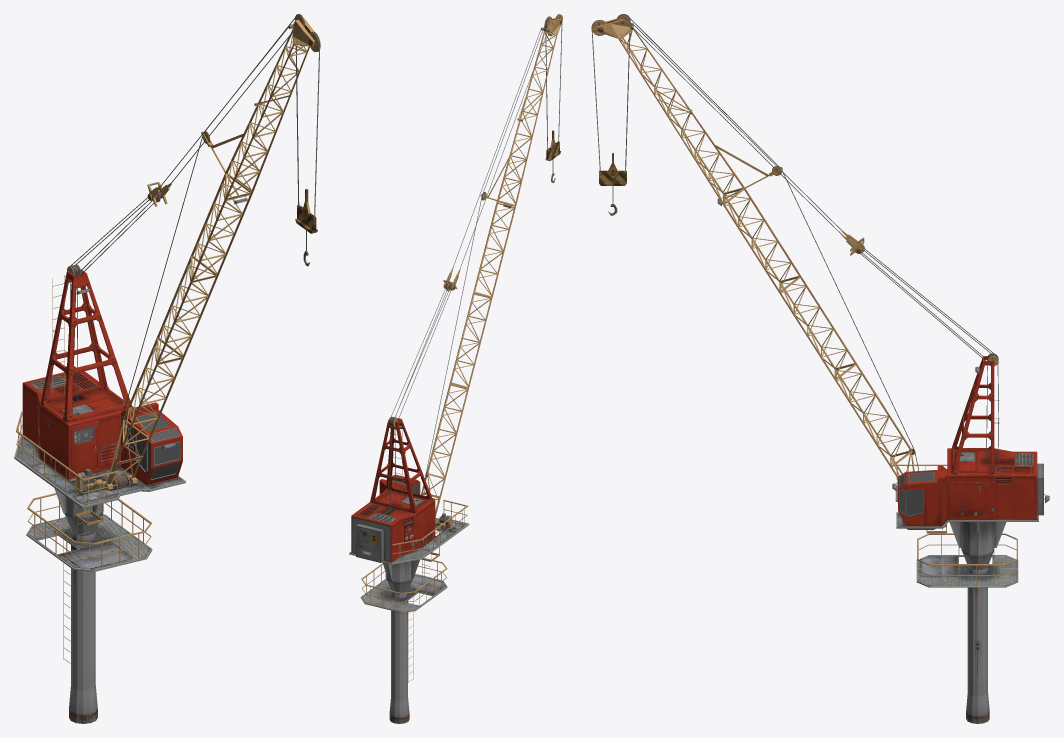
The model's file is LatticeCrane.fbx.
3 views of the same model, side by side, from view 1: azimuth 30°, elevation 25°; view 2: azimuth 150°, elevation 25°; view 3: azimuth 270°, elevation 25° (orthographic). The views are drawn at different scales.
Visible parts, largest first — view 1: Cabin03, CrainM03, Tower01, Cabin04, Wire01, Hook01; view 2: Cabin03, Tower01, CrainM03, Wire01, Hook01, Cabin04; view 3: Cabin03, CrainM03, Tower01, Cabin04, Wire01, Hook01.
Boxes of the visible parts, left/top/right/bottom form: Cabin03: left=14, top=264, right=185, bottom=556; CrainM03: left=107, top=18, right=315, bottom=484; Tower01: left=26, top=475, right=152, bottom=723; Cabin04: left=121, top=402, right=182, bottom=484; Wire01: left=70, top=18, right=294, bottom=475; Hook01: left=295, top=46, right=320, bottom=266; Cabin03: left=349, top=416, right=469, bottom=588; Tower01: left=360, top=558, right=447, bottom=723; CrainM03: left=421, top=18, right=562, bottom=517; Wire01: left=390, top=22, right=547, bottom=512; Hook01: left=545, top=23, right=562, bottom=182; Cabin04: left=379, top=474, right=420, bottom=494; Cabin03: left=895, top=353, right=1049, bottom=533; CrainM03: left=596, top=18, right=915, bottom=478; Tower01: left=916, top=522, right=1018, bottom=723; Cabin04: left=892, top=465, right=947, bottom=526; Wire01: left=630, top=18, right=999, bottom=470; Hook01: left=591, top=22, right=630, bottom=215.
Size of the model in its own units: 441 by 3491 by 2057.
2 materials, 1 textured.
